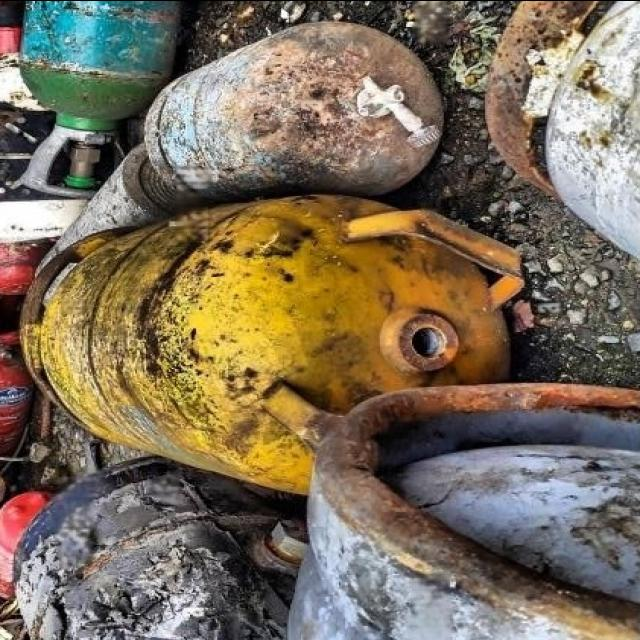cylinder: (19, 192, 523, 495), (144, 20, 444, 206)
